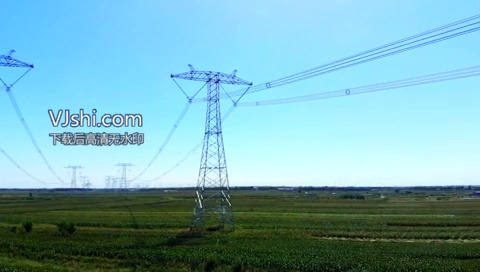tower_body: (169, 60, 258, 235)
tower_foot: (191, 189, 234, 231)
tower_head: (173, 63, 257, 88)
